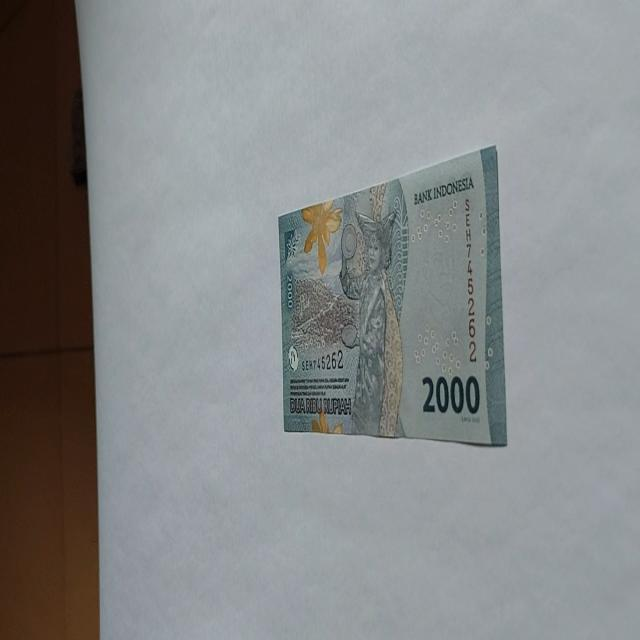dua ribu rupiah: (277, 143, 507, 446), (338, 206, 405, 437)
